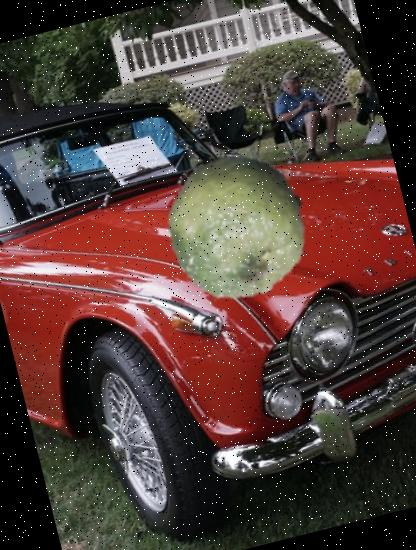Limes: (150, 139, 324, 314)
